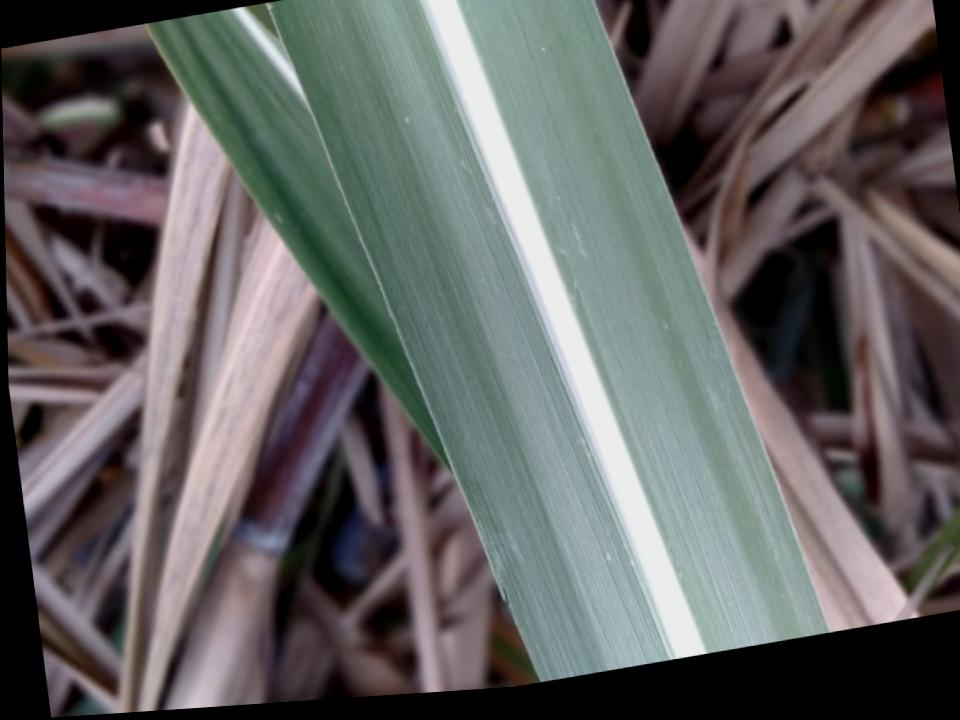Healthy: (270, 0, 832, 682), (147, 4, 451, 473)
